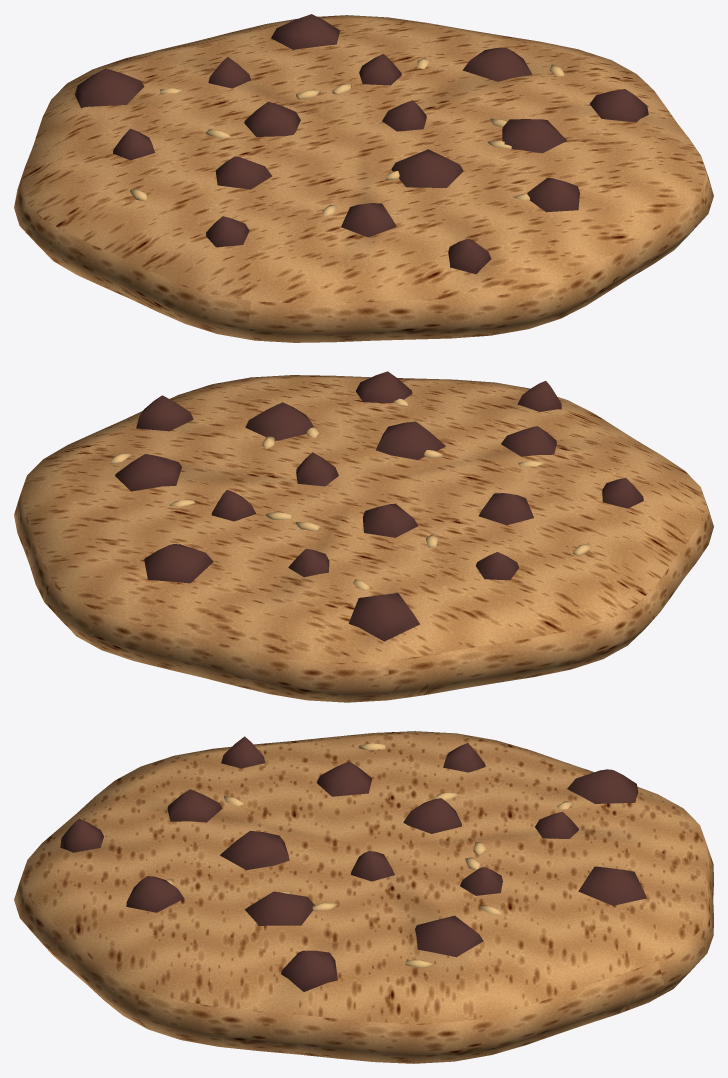
File: cookie.glb
3 renders of one model, top to bottom at view 1: azimuth 30°, elevation 25°; view 2: azimuth 150°, elevation 25°; view 3: azimuth 270°, elevation 25°, orthographic.
Visible parts, largest first — view 1: cookie; view 2: cookie; view 3: cookie.
Boxes of the visible parts, bbox=[...] form: cookie: bbox=[14, 14, 713, 342]; cookie: bbox=[14, 371, 713, 702]; cookie: bbox=[14, 731, 713, 1063].
Bounding box in the file's own units: 1.93 × 0.3198 × 1.91.
3 materials, 1 textured.
